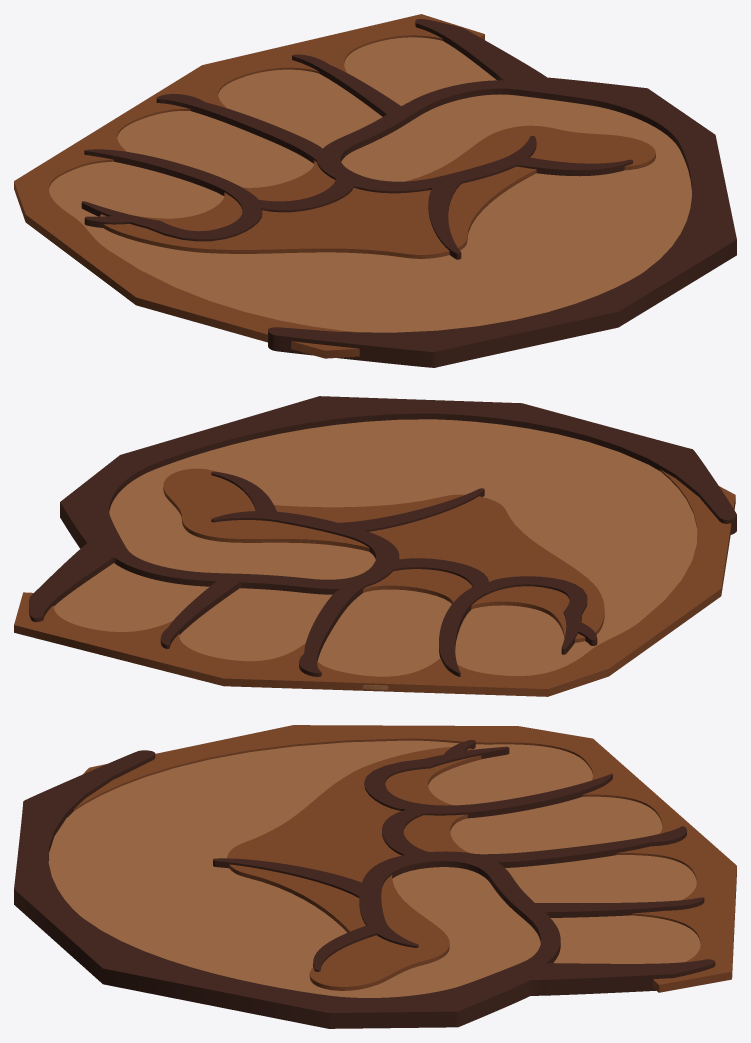
The model's file is emoji_u270a_1f3fe.glb.
3 views of the same model, one above another, from view 1: azimuth 30°, elevation 25°; view 2: azimuth 150°, elevation 25°; view 3: azimuth 270°, elevation 25° (orthographic). The views are drawn at different scales.
Visible parts, largest first — view 1: emoji_u270a_1f3fe; view 2: emoji_u270a_1f3fe; view 3: emoji_u270a_1f3fe.
Part boxes in pixels (box(x1,y1,x2,y2)): emoji_u270a_1f3fe: box(14, 14, 736, 367); emoji_u270a_1f3fe: box(14, 396, 736, 696); emoji_u270a_1f3fe: box(14, 725, 736, 1028).
Bounding box in the file's own units: 0.0317 × 0.0008 × 0.0332.
